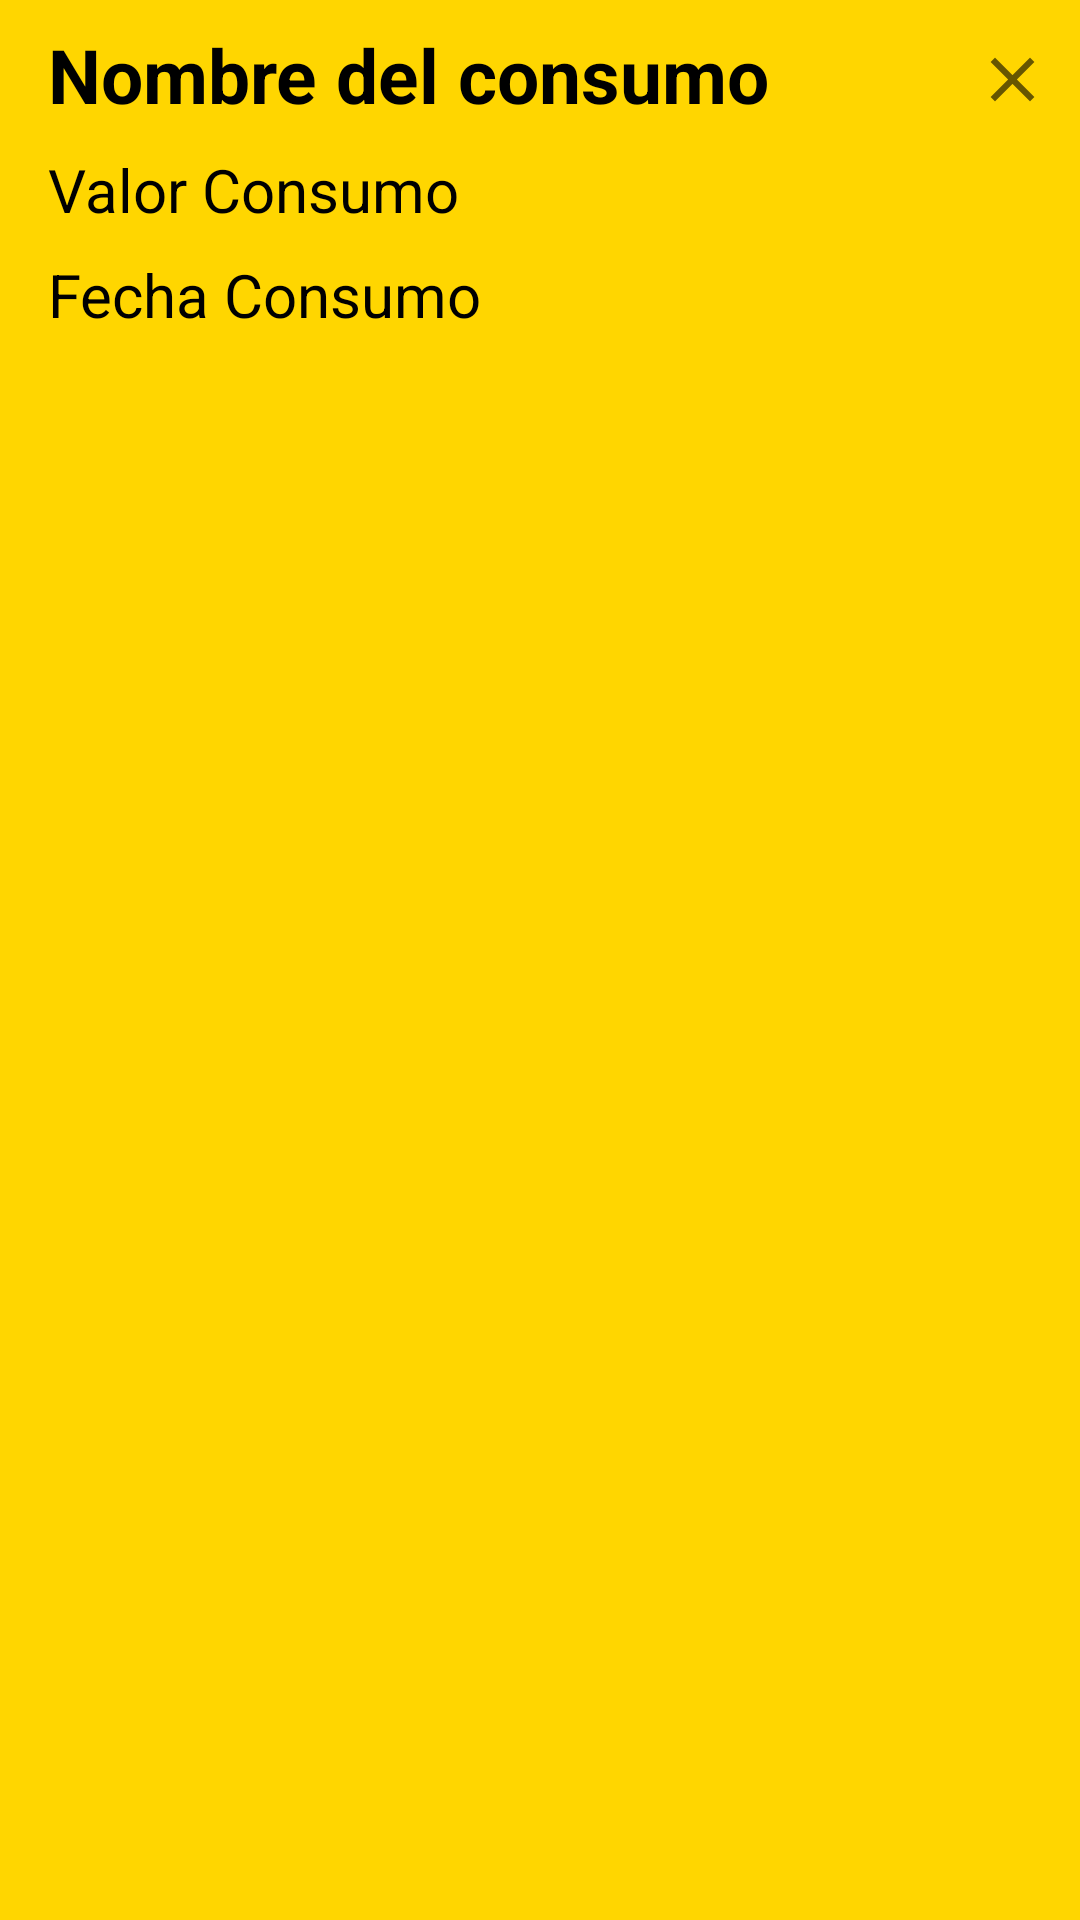

Icon click points for this 1080x1920 phone screenshot, format [x,y]:
close: [1012,79]
